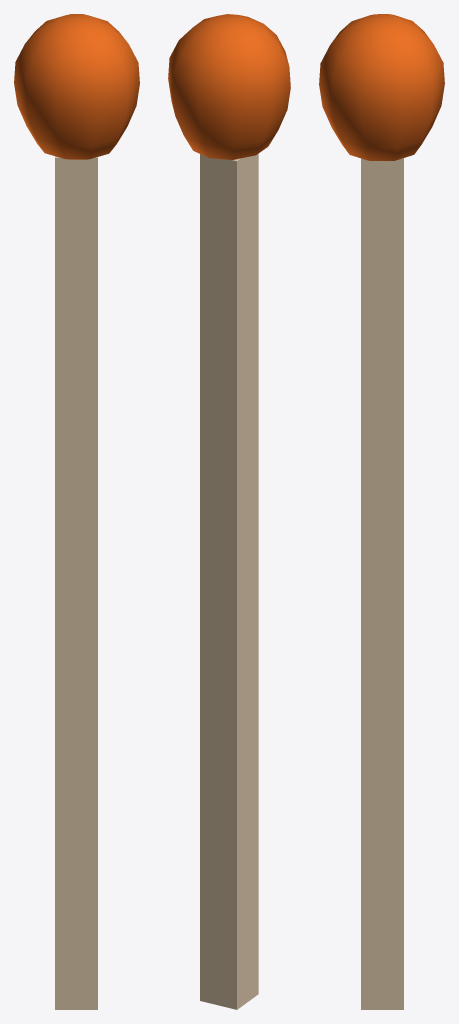
The model's file is match.dae.
3 renders of one model, left to right at view 1: azimuth 90°, elevation 25°; view 2: azimuth 150°, elevation 25°; view 3: azimuth 270°, elevation 25°, orthographic.
Parts seen in each view (by area): view 1: Cube; view 2: Cube; view 3: Cube.
Part boxes in pixels (box(x1,y1,x2,y2)): Cube: box(14, 14, 139, 1009); Cube: box(168, 14, 290, 1009); Cube: box(319, 14, 444, 1009).
Size of the model in its own units: 0.3993 by 0.4198 by 3.61.
